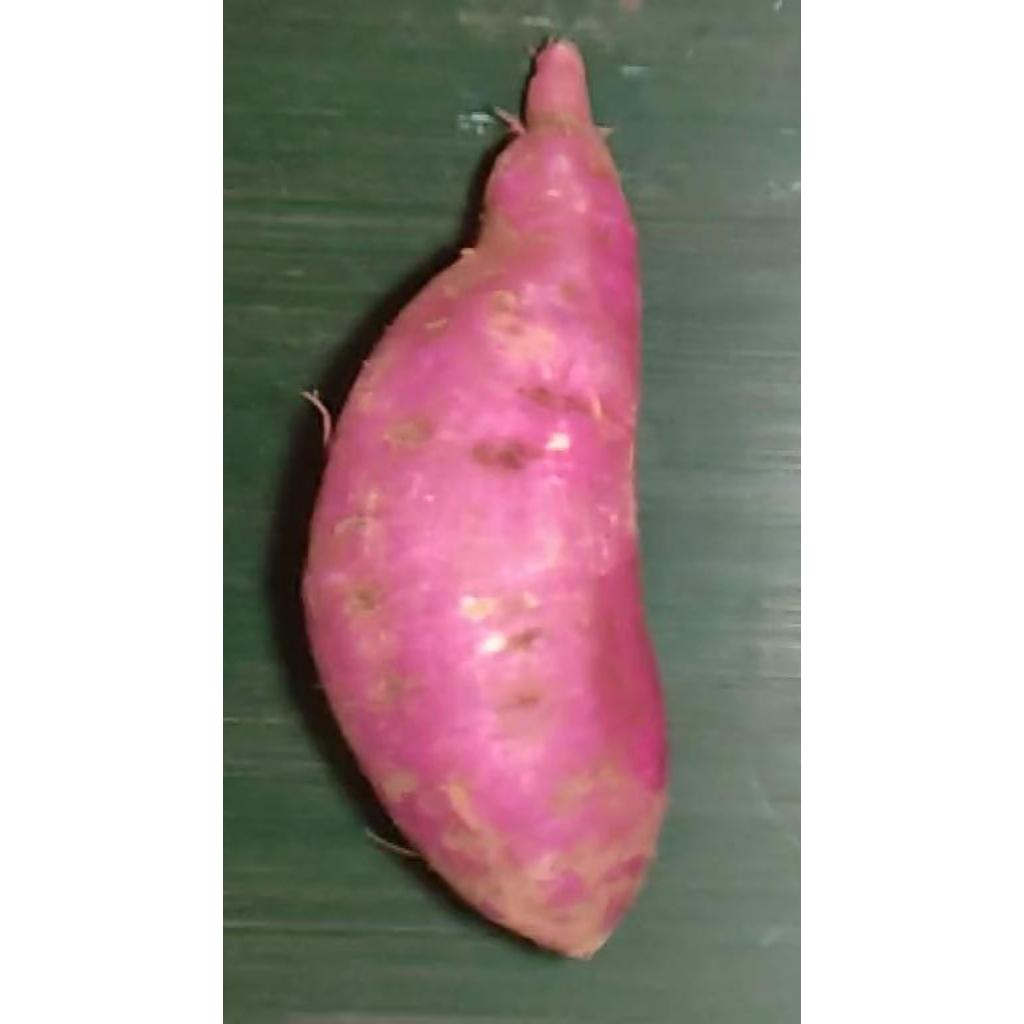Sweet Potato: (302, 40, 671, 963)
